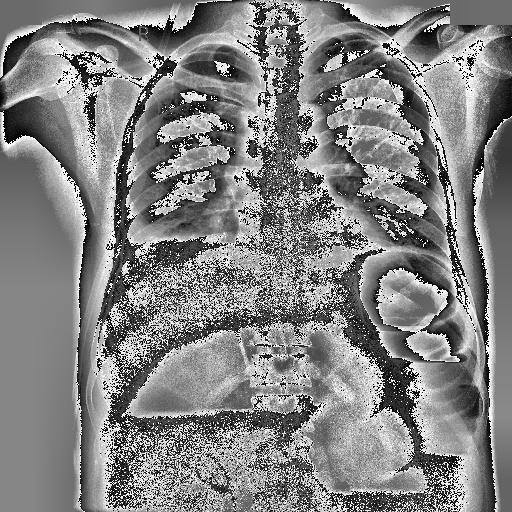0- Aortic enlargement: (278, 102, 334, 156), (286, 106, 337, 160), (286, 104, 330, 145)
10- Pleural effusion: (120, 210, 151, 262), (119, 229, 136, 273)
11- Pleural thickening: (120, 210, 151, 262), (119, 229, 136, 273), (346, 31, 380, 45)
13- Pulmonary fibrosis: (192, 156, 212, 166)
3- Cardiomegaly: (230, 226, 405, 276)
7- Lung Opacity: (124, 226, 233, 264), (141, 232, 238, 251)
9- Other lesion: (141, 232, 238, 251)
